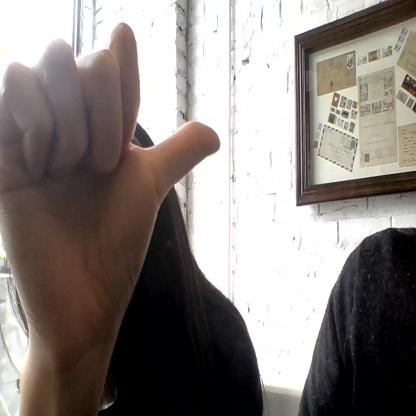left: (0, 19, 220, 335)
